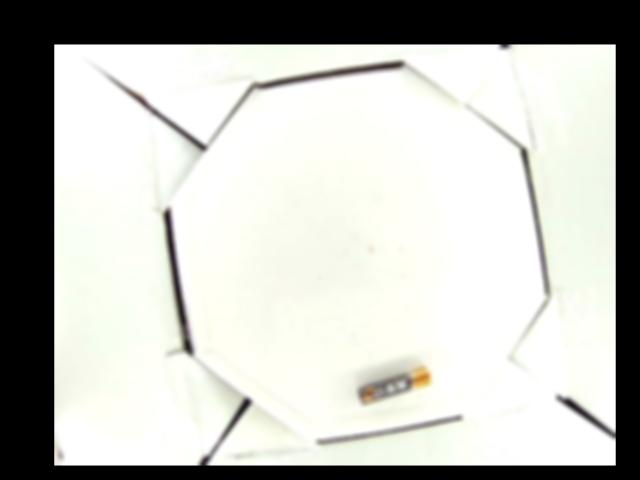Battery: (355, 365, 432, 403)
